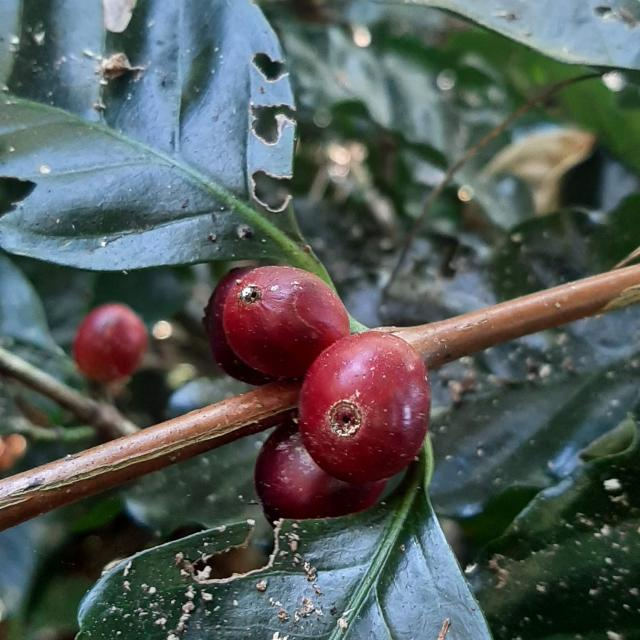red: (299, 332, 431, 484), (223, 266, 350, 378), (254, 422, 387, 524), (203, 282, 277, 386), (72, 303, 147, 383)
